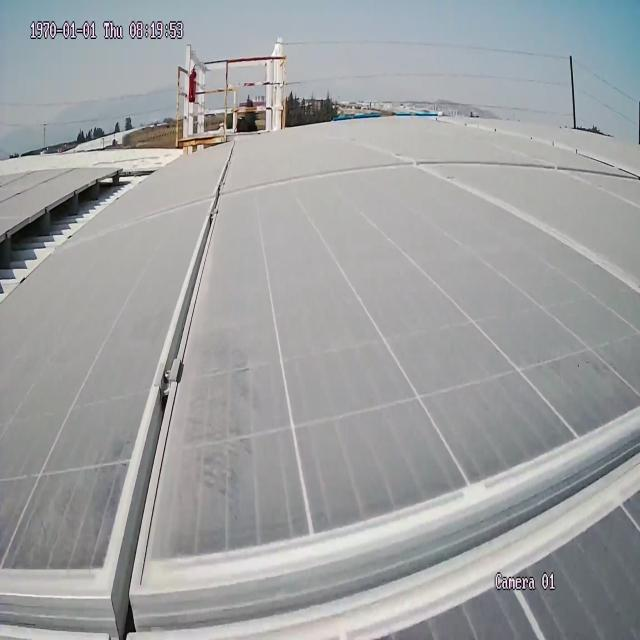interior panel: (0, 137, 640, 640), (410, 169, 640, 295)
outher panel: (2, 151, 188, 300)
